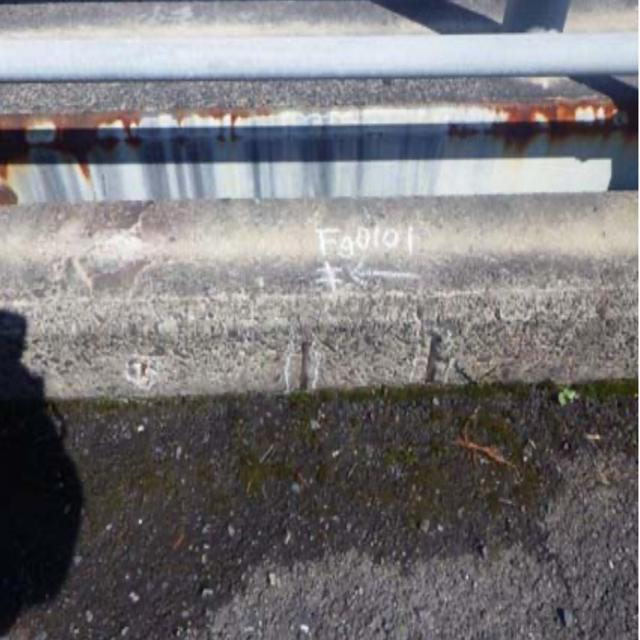corrosion: (13, 93, 633, 158)
